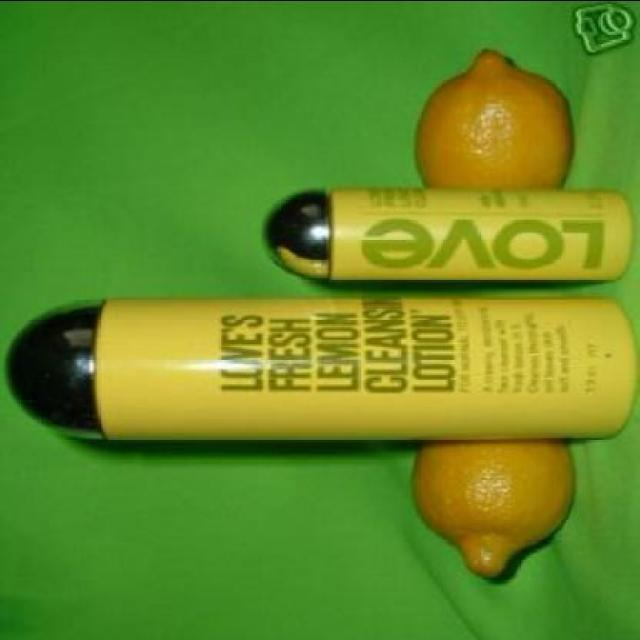Lemon: (406, 438, 578, 582), (414, 48, 577, 190)
